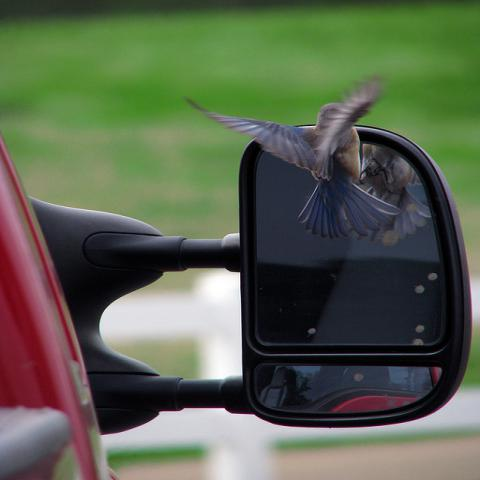car: (1, 123, 464, 470)
